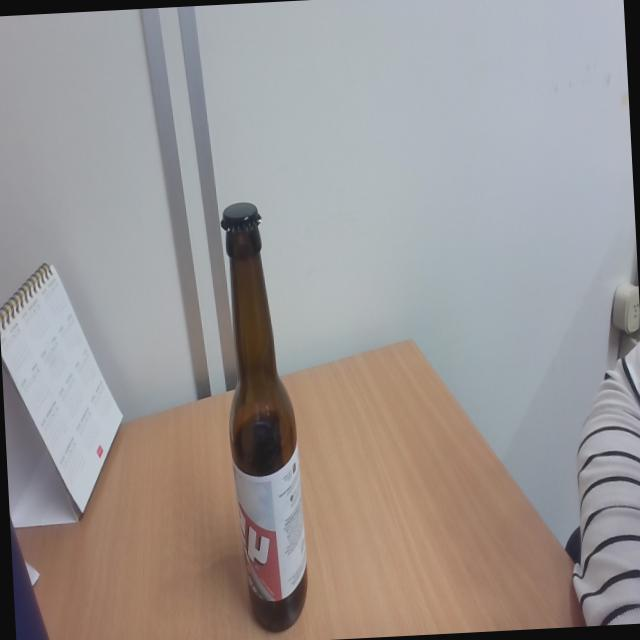Bottle: (217, 201, 310, 633)
Cap: (216, 202, 267, 236)
Label: (234, 458, 307, 602)
